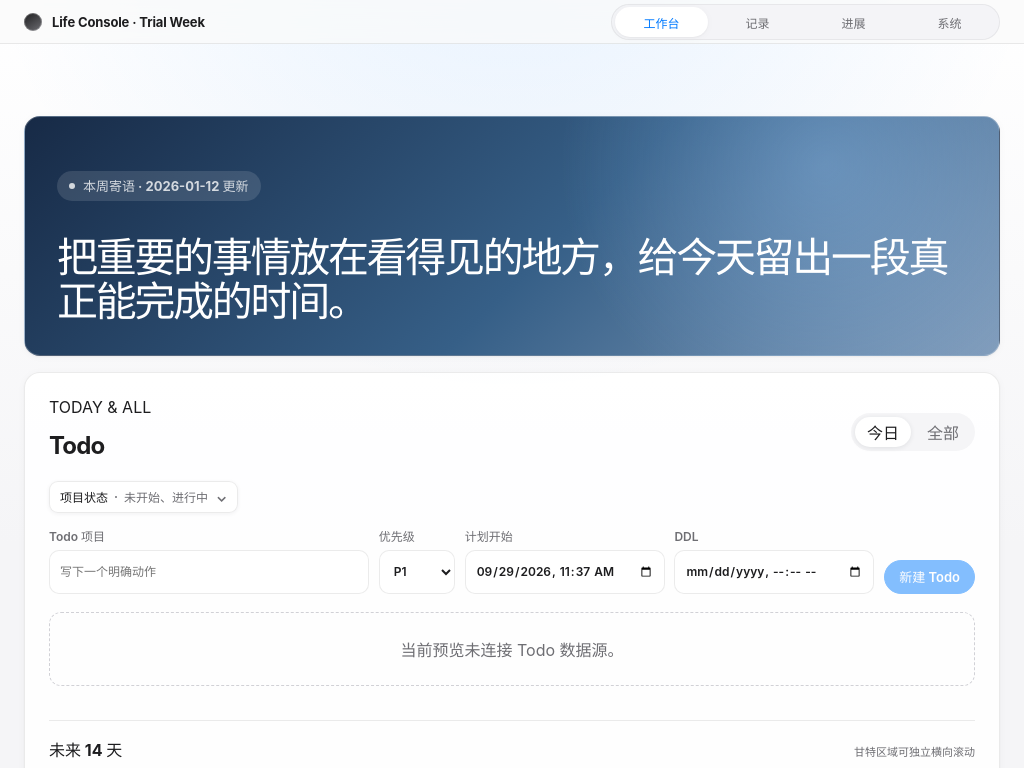
Test: Life Console synthetic UI › anchors the seven-day sleep table to the dashboard date
Click the button "进展": (854, 22) [807, 7, 900, 37]
(page scrolled)
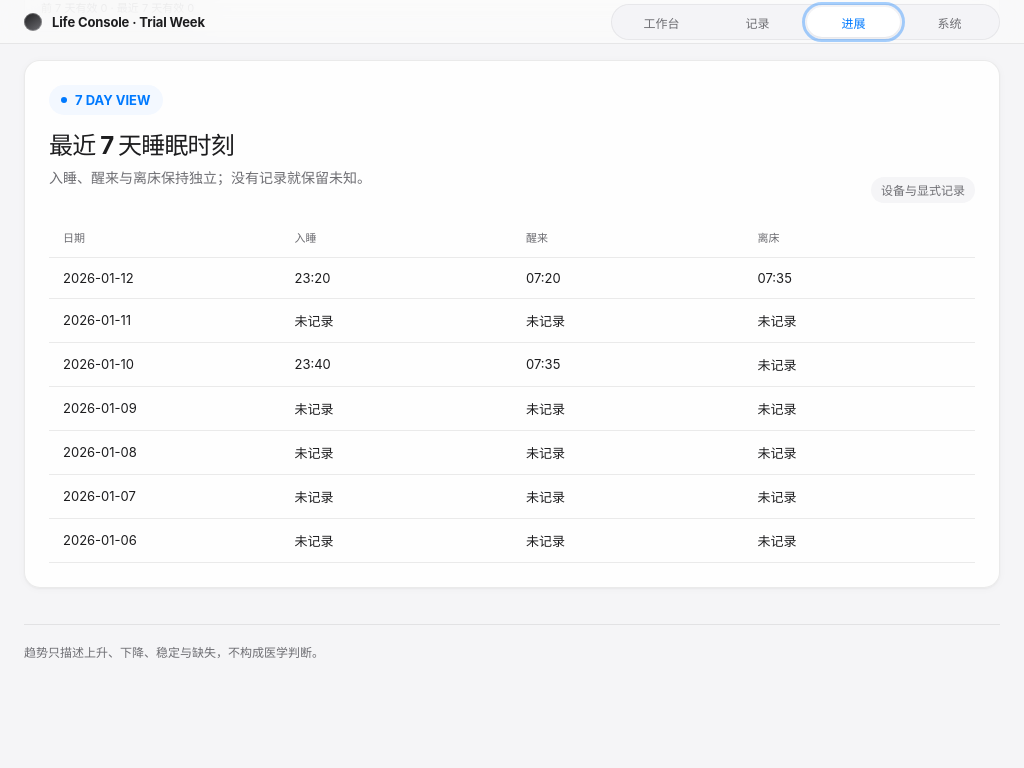
Expected: the text "2026-01-12" is shown, [49, 257, 280, 298]
Result: the text "2026-01-06" is shown at [49, 518, 280, 562]
